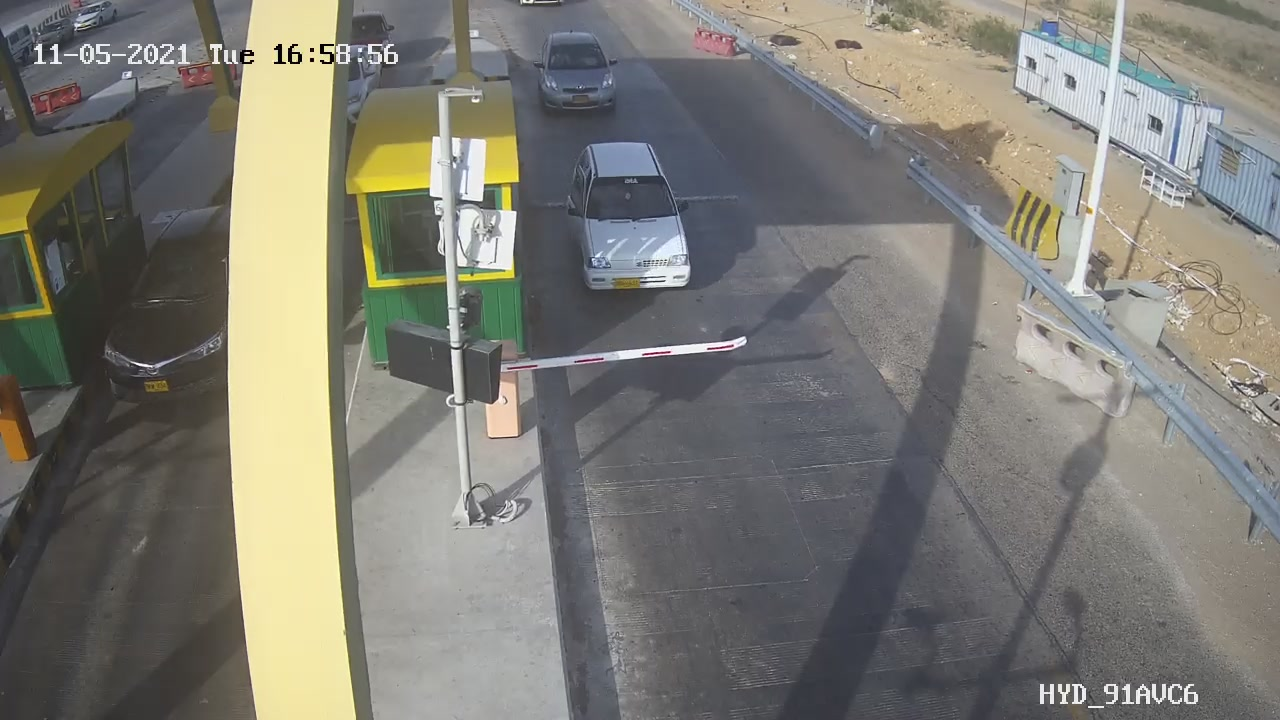F1: (548, 126, 704, 317), (520, 20, 635, 133)
